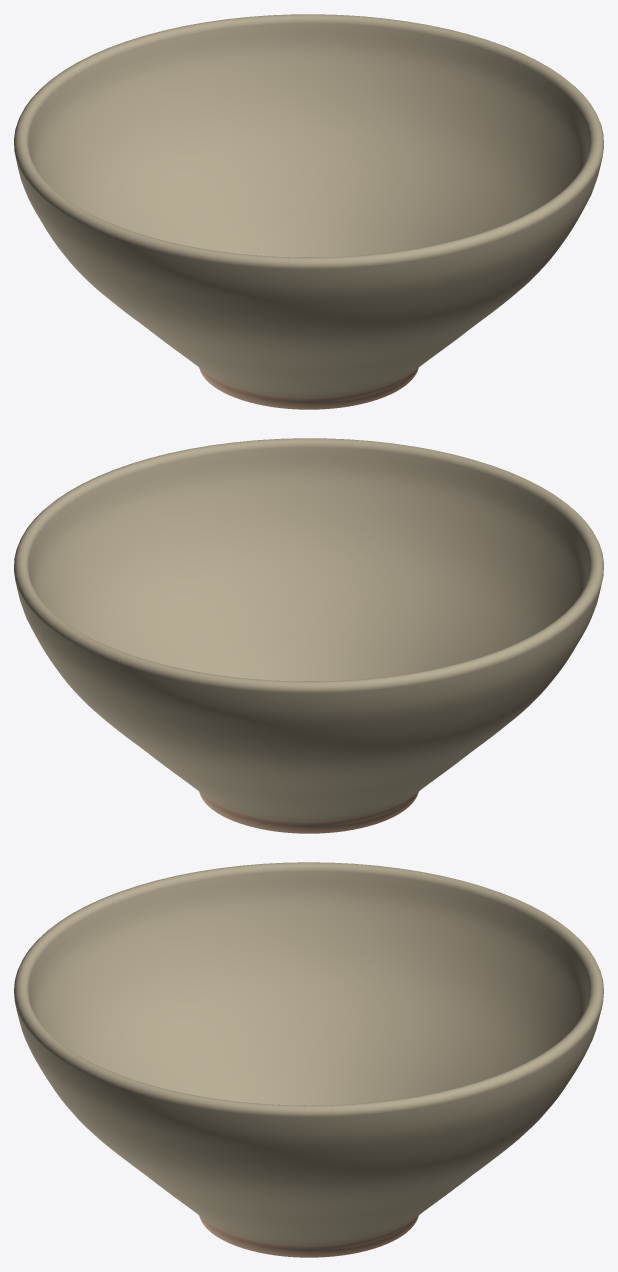
File: horno.glb
3 views of the same model, one above another, from view 1: azimuth 30°, elevation 25°; view 2: azimuth 150°, elevation 25°; view 3: azimuth 270°, elevation 25° (orthographic).
Visible parts, largest first — view 1: horno; view 2: horno; view 3: horno.
Part boxes in pixels (bbox=[...]): horno: bbox=[14, 14, 603, 409]; horno: bbox=[14, 438, 603, 833]; horno: bbox=[14, 862, 603, 1257].
Size of the model in its own units: 0.22 by 0.0938 by 0.22.
